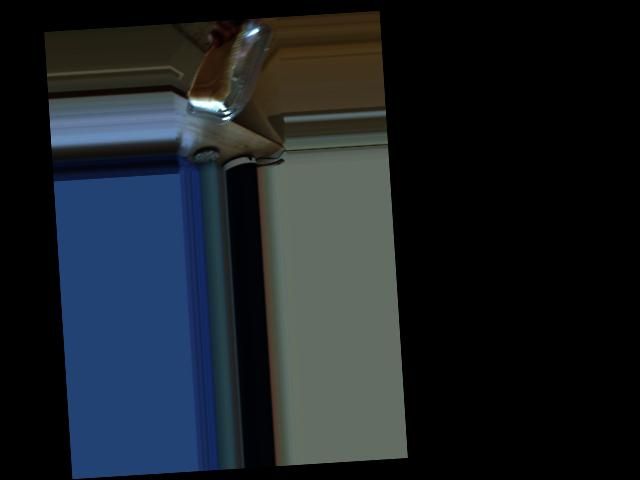cheese: (195, 55, 262, 114)
